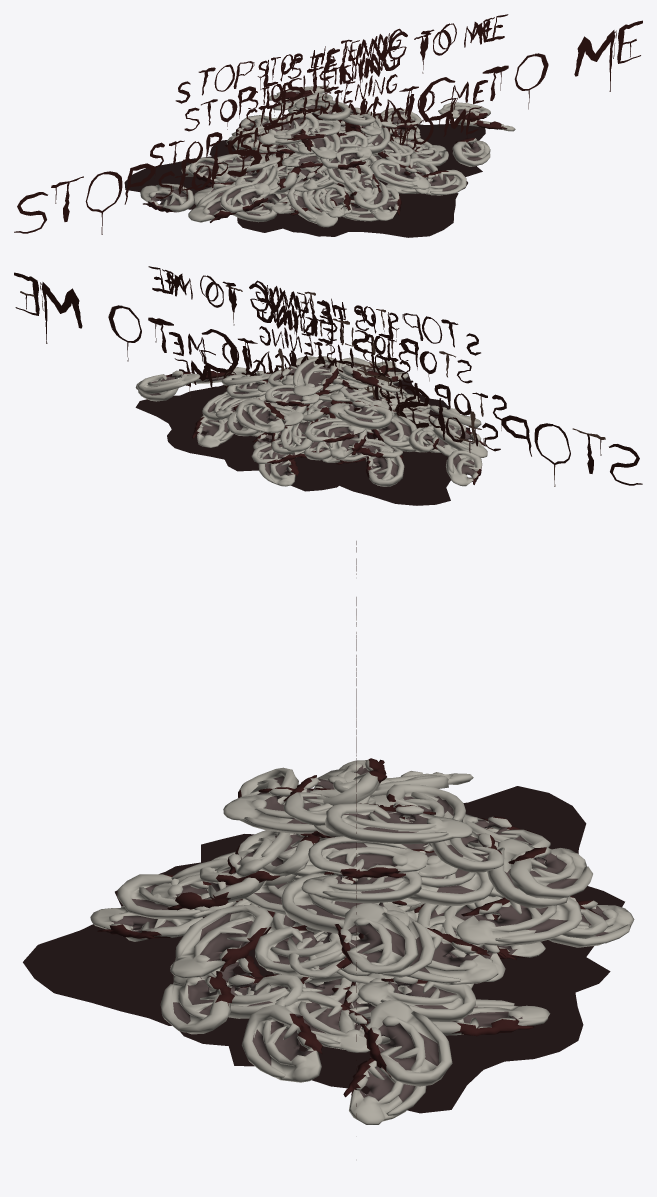
File: stop-listening.glb
3 renders of one model, top to bottom at view 1: azimuth 30°, elevation 25°; view 2: azimuth 150°, elevation 25°; view 3: azimuth 270°, elevation 25°, orthographic. The views are drawn at different scales.
Visible parts, largest first — view 1: stop_listening_heap_c, stop_listening_heap_a, stop_listening_writing_block, stop_listening_writing_line, stop_listening_writing_scrawl, stop_listening_heap_b; view 2: stop_listening_heap_c, stop_listening_heap_a, stop_listening_writing_block, stop_listening_writing_line, stop_listening_writing_scrawl, stop_listening_heap_b, stop_listening_writing_block_pale, stop_listening_writing_line_pale, stop_listening_writing_scrawl_pale; view 3: stop_listening_heap_c, stop_listening_heap_a, stop_listening_heap_b.
Boxes of the visible parts, x1=… form: stop_listening_heap_c: x1=124, y1=102, x2=515, y2=237; stop_listening_heap_a: x1=209, y1=85, x2=482, y2=236; stop_listening_writing_block: x1=150, y1=14, x2=508, y2=199; stop_listening_writing_line: x1=14, y1=20, x2=642, y2=234; stop_listening_writing_scrawl: x1=239, y1=28, x2=417, y2=165; stop_listening_heap_b: x1=211, y1=112, x2=413, y2=215; stop_listening_heap_c: x1=135, y1=365, x2=487, y2=505; stop_listening_heap_a: x1=192, y1=356, x2=449, y2=491; stop_listening_writing_block: x1=148, y1=266, x2=507, y2=451; stop_listening_writing_line: x1=14, y1=272, x2=642, y2=485; stop_listening_writing_scrawl: x1=246, y1=280, x2=417, y2=438; stop_listening_heap_b: x1=244, y1=357, x2=427, y2=476; stop_listening_writing_block_pale: x1=179, y1=285, x2=501, y2=446; stop_listening_writing_line_pale: x1=20, y1=291, x2=605, y2=486; stop_listening_writing_scrawl_pale: x1=268, y1=292, x2=414, y2=415; stop_listening_heap_c: x1=23, y1=758, x2=610, y2=1124; stop_listening_heap_a: x1=90, y1=787, x2=634, y2=1066; stop_listening_heap_b: x1=163, y1=769, x2=545, y2=988.
Bounding box in the file's own units: 4.71 × 1.01 × 1.98.
